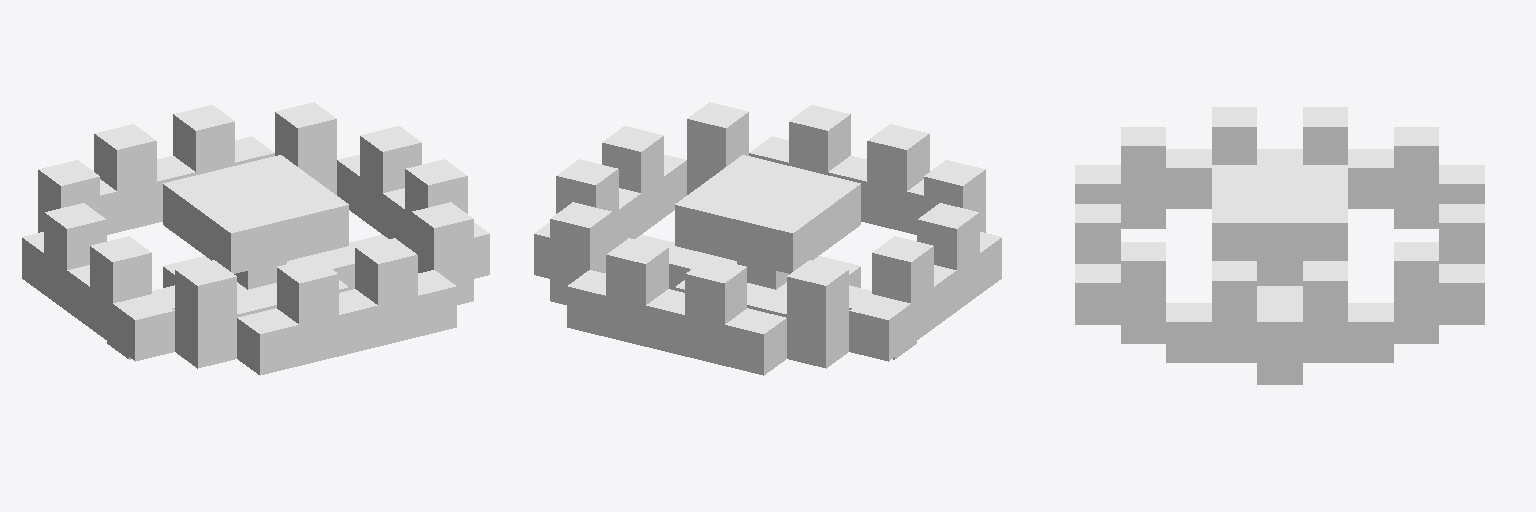
File: piej.obj
3 views of the same model, side by side, from view 1: azimuth 30°, elevation 25°; view 2: azimuth 150°, elevation 25°; view 3: azimuth 270°, elevation 25° (orthographic).
Visible parts, largest first — view 1: object 1; view 2: object 1; view 3: object 1.
Boxes of the visible parts, x1=… form: object 1: x1=22, y1=102, x2=489, y2=375; object 1: x1=534, y1=102, x2=1001, y2=375; object 1: x1=1075, y1=107, x2=1484, y2=384.
Size of the model in its own units: 0.9 by 0.3 by 0.9.